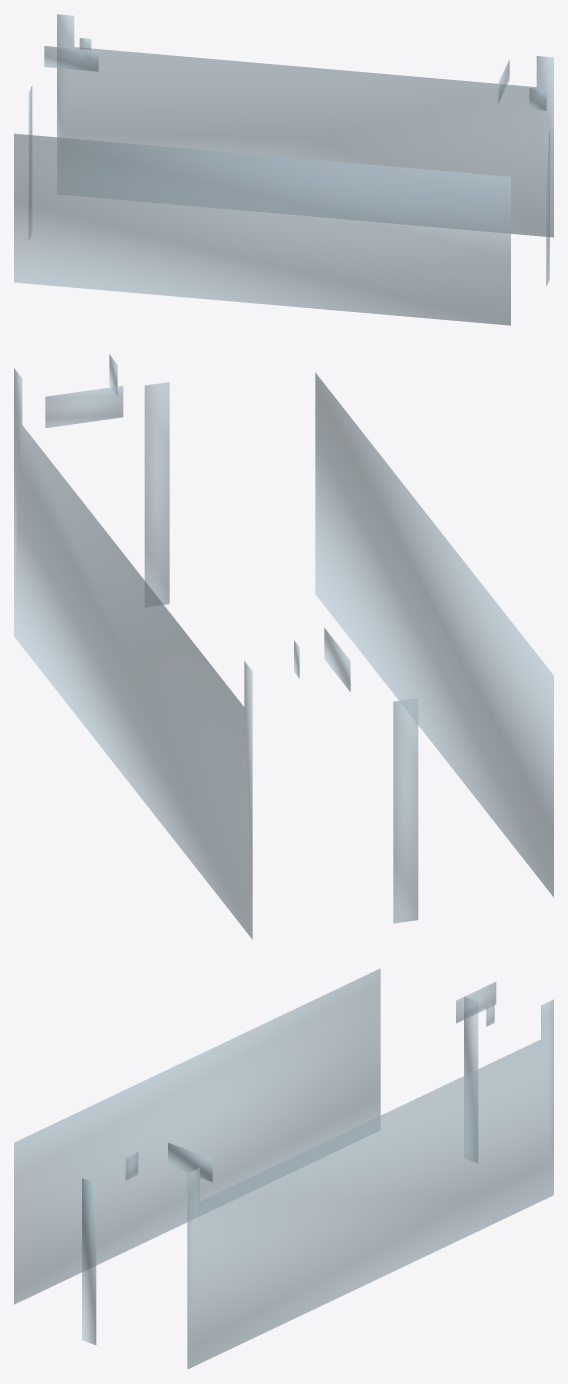
Rendered from glass.glb.
3 renders of one model, top to bottom at view 1: azimuth 30°, elevation 25°; view 2: azimuth 150°, elevation 25°; view 3: azimuth 270°, elevation 25°, orthographic. The views are drawn at different scales.
Visible parts, largest first — view 1: Obj3d66-19710478-299-731; view 2: Obj3d66-19710478-299-731; view 3: Obj3d66-19710478-299-731.
Part boxes in pixels (x1=…): Obj3d66-19710478-299-731: x1=14, y1=14, x2=553, y2=325; Obj3d66-19710478-299-731: x1=14, y1=354, x2=553, y2=939; Obj3d66-19710478-299-731: x1=14, y1=968, x2=553, y2=1369.
Size of the model in its own units: 2.12 by 0.808 by 2.02.
